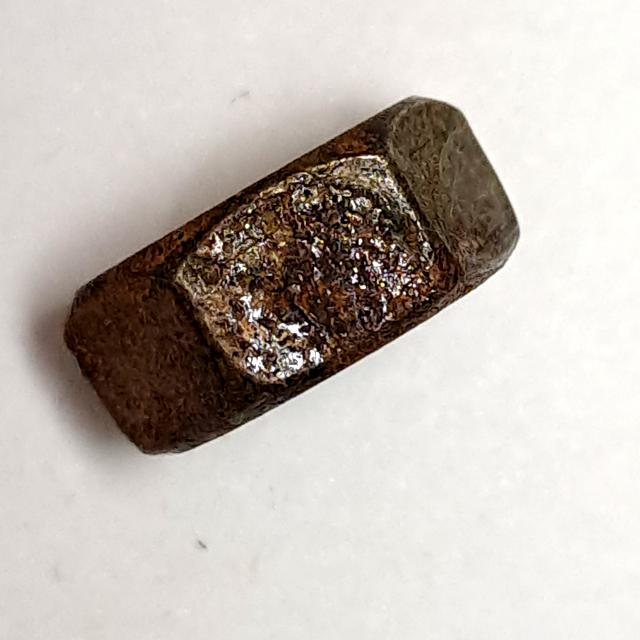Side_Rust: (57, 83, 530, 481)
